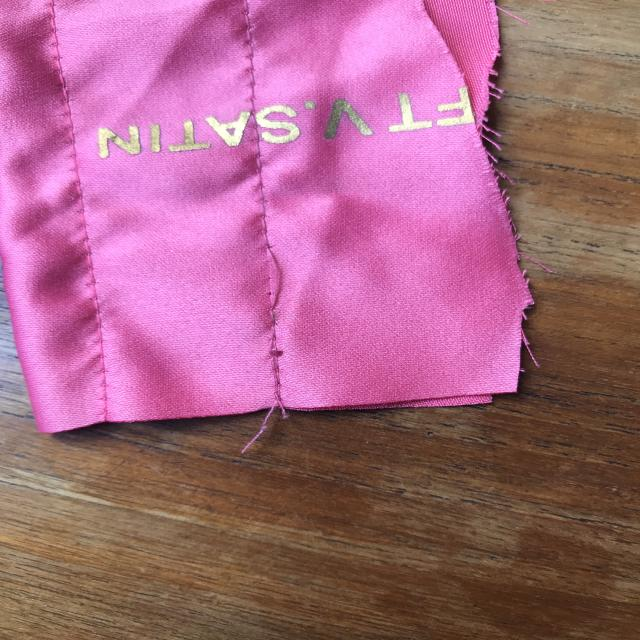skip: (250, 230, 298, 326)
